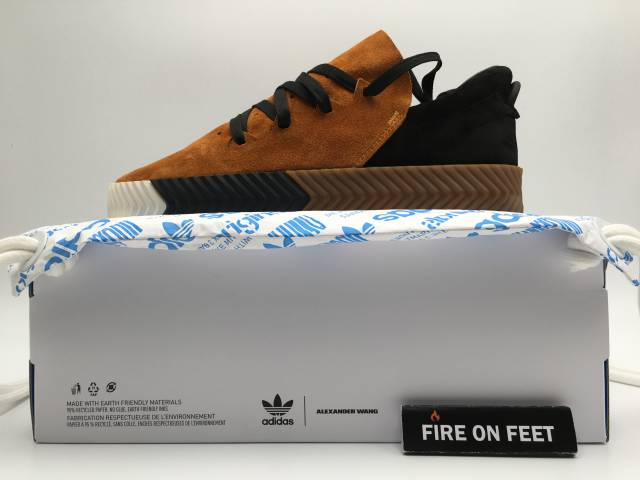adidas AW Skate Sand: (104, 19, 532, 222)
